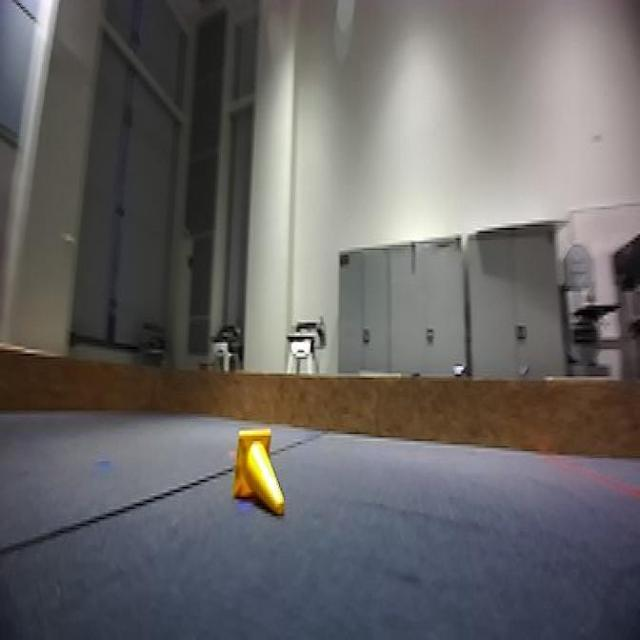frc_cone: (222, 427, 292, 516)
